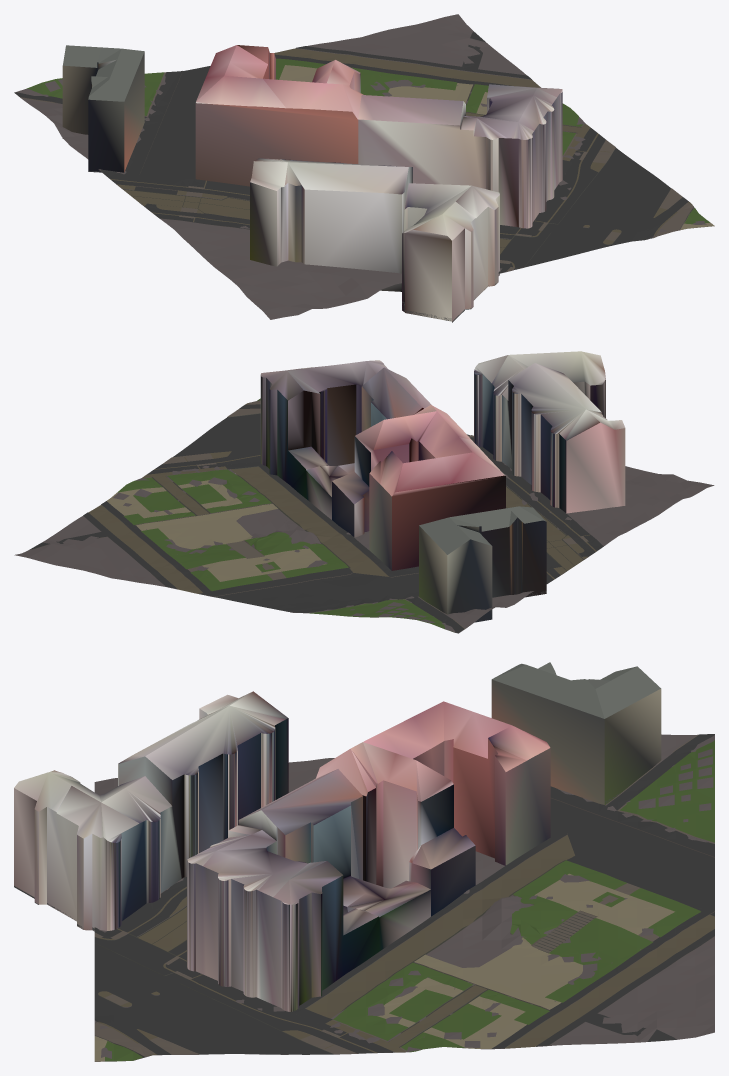
3 renders of one model, top to bottom at view 1: azimuth 30°, elevation 25°; view 2: azimuth 150°, elevation 25°; view 3: azimuth 270°, elevation 25°, orthographic. The views are drawn at different scales.
Parts seen in each view (by area): view 1: c_p01_m12; view 2: c_p01_m12; view 3: c_p01_m12.
Part boxes in pixels (left/top/right/bottom): c_p01_m12: left=14, top=14, right=714, bottom=322; c_p01_m12: left=14, top=351, right=714, bottom=633; c_p01_m12: left=14, top=662, right=714, bottom=1061.
Size of the model in its own units: 130 by 35.58 by 145.
